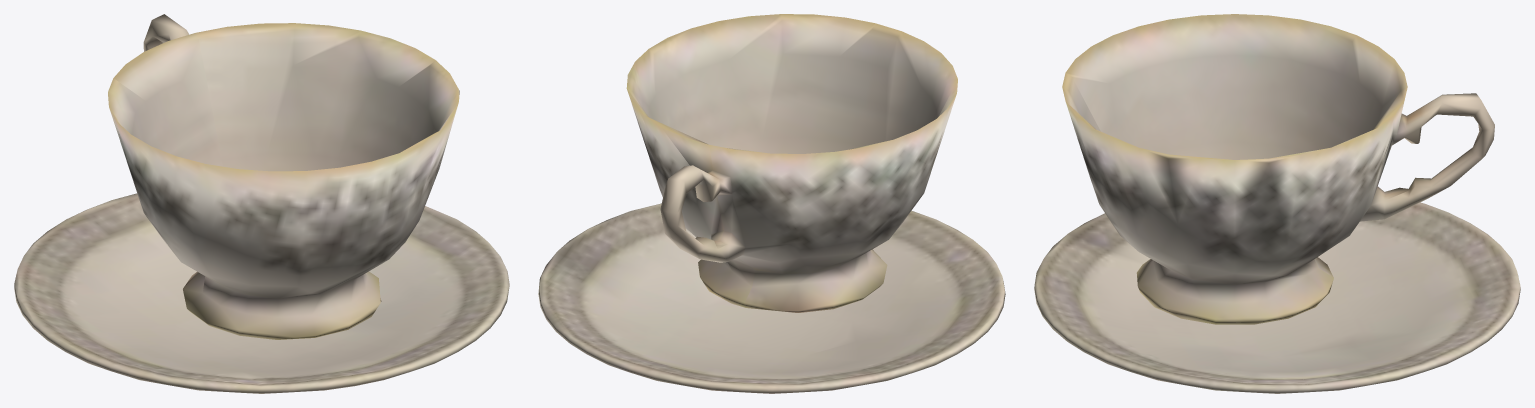
The model's file is cafe_cup.glb.
3 renders of one model, left to right at view 1: azimuth 30°, elevation 25°; view 2: azimuth 150°, elevation 25°; view 3: azimuth 270°, elevation 25°, orthographic. The views are drawn at different scales.
Visible parts, largest first — view 1: tea_set_01_cup_small_01, tea_set_01_saucer_circular_04; view 2: tea_set_01_cup_small_01, tea_set_01_saucer_circular_04; view 3: tea_set_01_cup_small_01, tea_set_01_saucer_circular_04.
Boxes of the visible parts, <box> form: tea_set_01_cup_small_01: <box>108,14,459,339</box>; tea_set_01_saucer_circular_04: <box>14,193,509,393</box>; tea_set_01_cup_small_01: <box>626,14,957,312</box>; tea_set_01_saucer_circular_04: <box>538,203,1005,393</box>; tea_set_01_cup_small_01: <box>1062,14,1494,324</box>; tea_set_01_saucer_circular_04: <box>1034,202,1520,393</box>.
Size of the model in its own units: 0.1486 by 0.0823 by 0.1486.
1 material, 1 textured.
